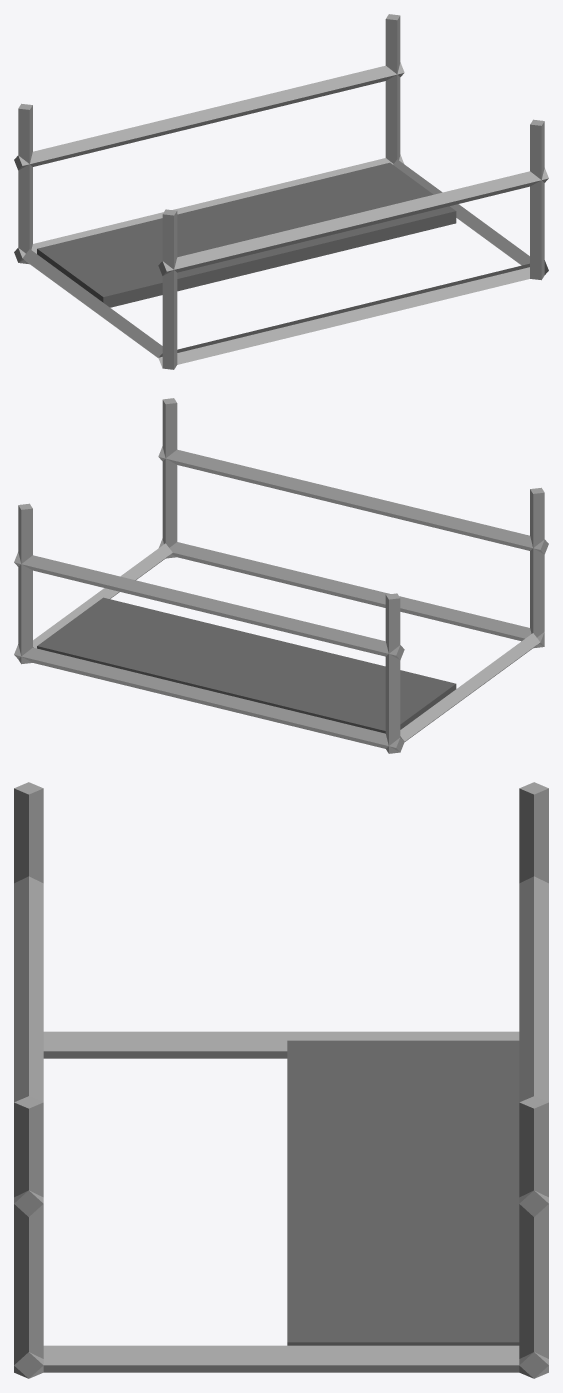
The model's file is ScaffOlding_4.fbx.
3 views of the same model, one above another, from view 1: azimuth 30°, elevation 25°; view 2: azimuth 150°, elevation 25°; view 3: azimuth 270°, elevation 25° (orthographic). The views are drawn at different scales.
Visible parts, largest first — view 1: Cylinder.003; view 2: Cylinder.003; view 3: Cylinder.003.
Boxes of the visible parts, x1,y1,x2,y2 form: Cylinder.003: (14, 14, 548, 369); Cylinder.003: (14, 398, 548, 753); Cylinder.003: (14, 782, 548, 1378).
Size of the model in its own units: 325 by 125 by 225.
